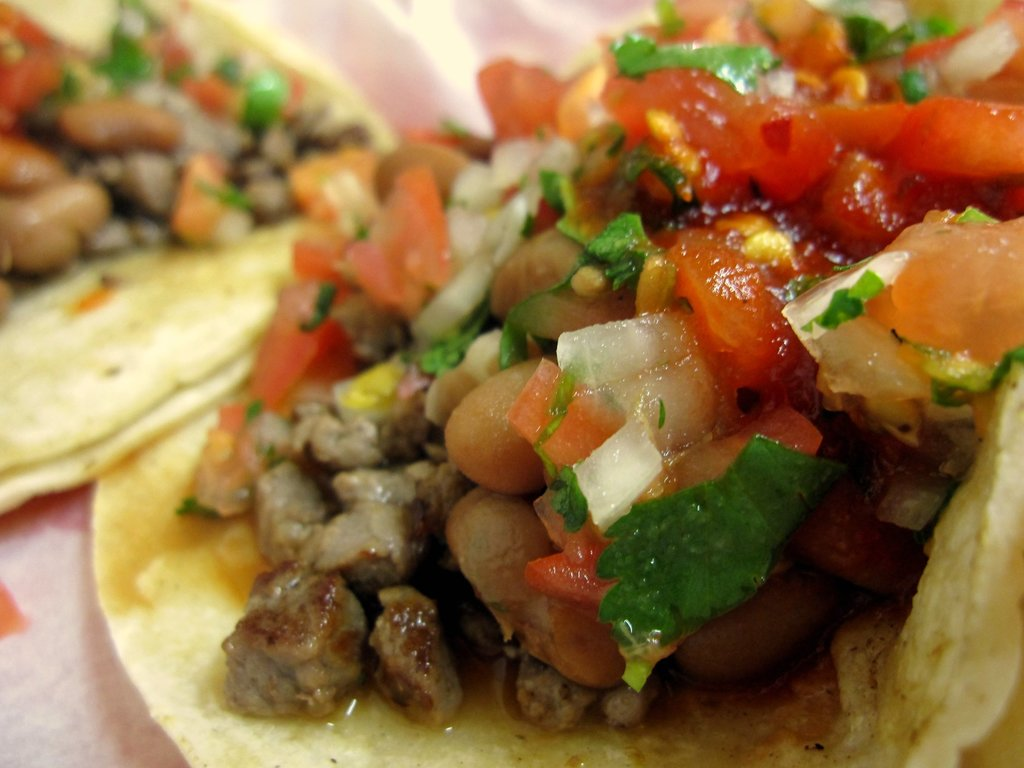taco: (94, 0, 1023, 767), (0, 0, 388, 511)
